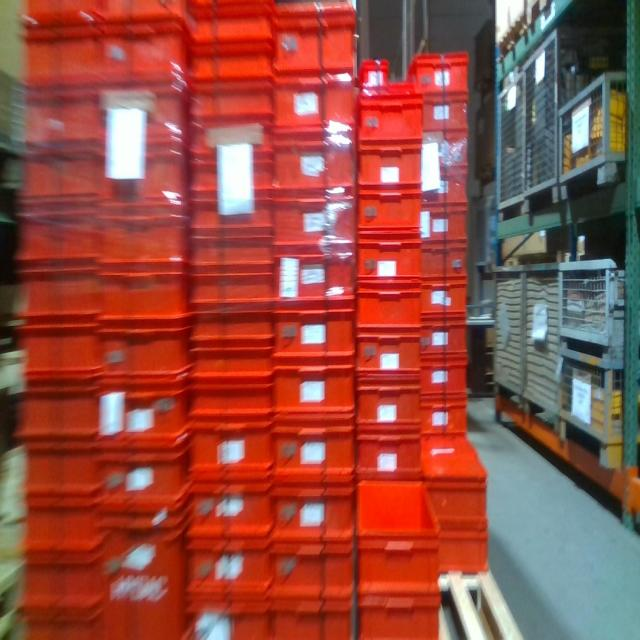small_load_carrier: (102, 502, 188, 634), (358, 468, 437, 596), (97, 146, 192, 214), (267, 4, 360, 73), (99, 325, 192, 392), (418, 432, 491, 517), (187, 423, 276, 488), (21, 147, 99, 221), (185, 538, 280, 597), (267, 73, 354, 136), (17, 551, 100, 617), (271, 249, 356, 312), (98, 214, 192, 270), (271, 427, 356, 488), (104, 390, 192, 448), (19, 325, 100, 387), (276, 360, 358, 421), (102, 448, 192, 502), (102, 32, 183, 91), (274, 538, 354, 597), (104, 90, 186, 147), (18, 387, 100, 444), (187, 488, 280, 538), (26, 30, 102, 90), (96, 277, 191, 325), (352, 88, 425, 150), (277, 136, 354, 194), (23, 88, 100, 146), (276, 194, 358, 247), (16, 219, 100, 270), (22, 444, 106, 495), (22, 498, 100, 552), (273, 312, 358, 360), (16, 270, 96, 320), (271, 490, 354, 538), (189, 116, 281, 158), (434, 522, 494, 585), (192, 235, 276, 277), (186, 597, 274, 637), (191, 193, 274, 235), (190, 6, 273, 48), (189, 277, 276, 315), (358, 238, 421, 290), (354, 430, 416, 482), (358, 376, 421, 426), (358, 189, 422, 238), (358, 596, 444, 632), (189, 346, 277, 381), (273, 597, 356, 634), (187, 86, 280, 119), (189, 158, 274, 194), (188, 48, 273, 84), (357, 290, 421, 336), (189, 383, 276, 416), (189, 315, 277, 346), (103, 1, 191, 32), (354, 150, 422, 189), (358, 336, 420, 376), (425, 398, 468, 453), (409, 51, 468, 91), (420, 199, 467, 246), (409, 91, 465, 129), (23, 2, 105, 27), (18, 617, 102, 638), (425, 353, 464, 397), (421, 245, 468, 280), (420, 285, 464, 322), (422, 131, 465, 168), (422, 168, 467, 199), (420, 322, 464, 351)
stillage: (523, 23, 625, 216), (557, 66, 633, 202), (556, 338, 626, 468), (518, 262, 558, 446), (557, 255, 627, 357), (493, 64, 528, 226), (488, 262, 523, 417)
